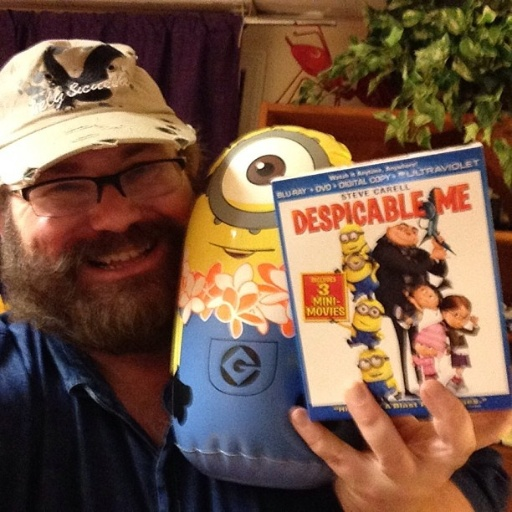hand: (292, 380, 492, 502), (431, 241, 448, 261), (430, 230, 441, 248), (469, 315, 478, 326)
